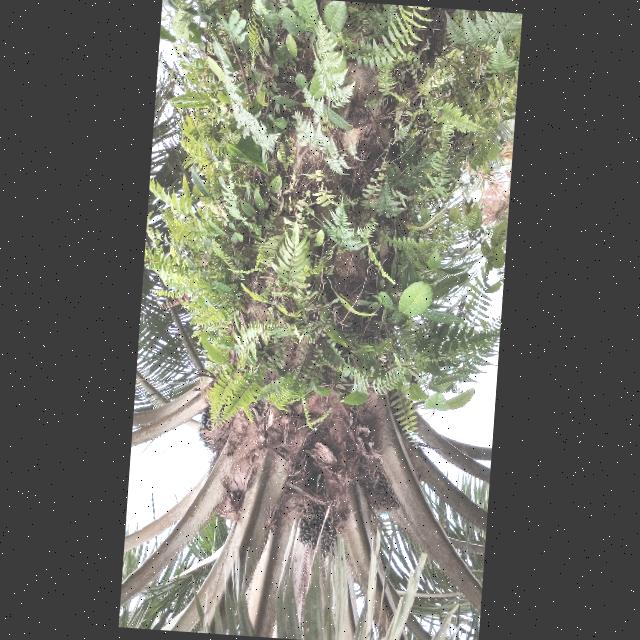Unripe: (295, 498, 339, 555), (197, 408, 216, 449)
